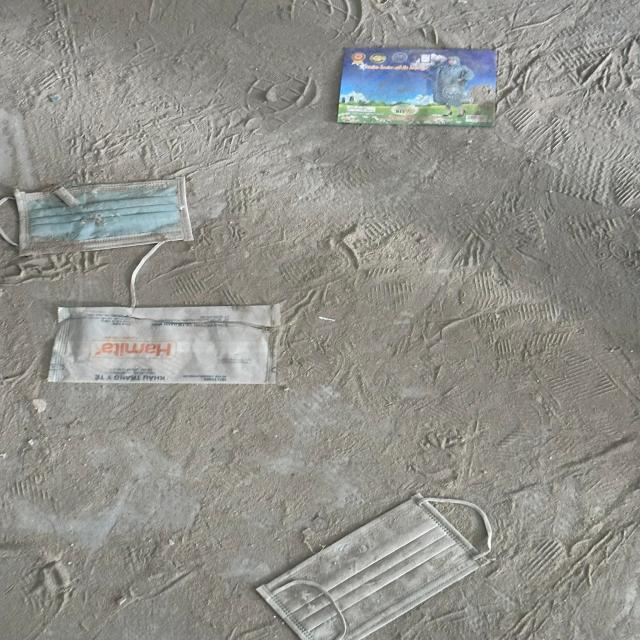mask: (255, 490, 493, 640), (0, 176, 196, 259)
packet: (45, 302, 283, 385)
paper: (337, 49, 499, 126)
